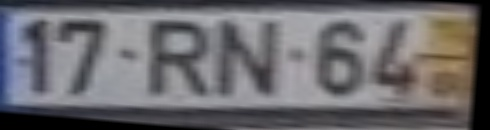1: (18, 19, 54, 98)
4: (370, 18, 423, 101)
6: (314, 19, 375, 100)
7: (56, 19, 113, 101)
N: (213, 20, 285, 102)
R: (144, 19, 215, 101)
